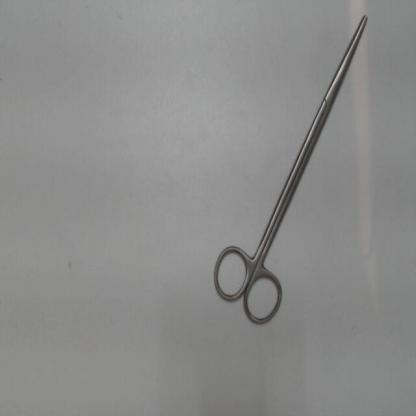9 Metzenbaum Scissors: (210, 8, 374, 331)
